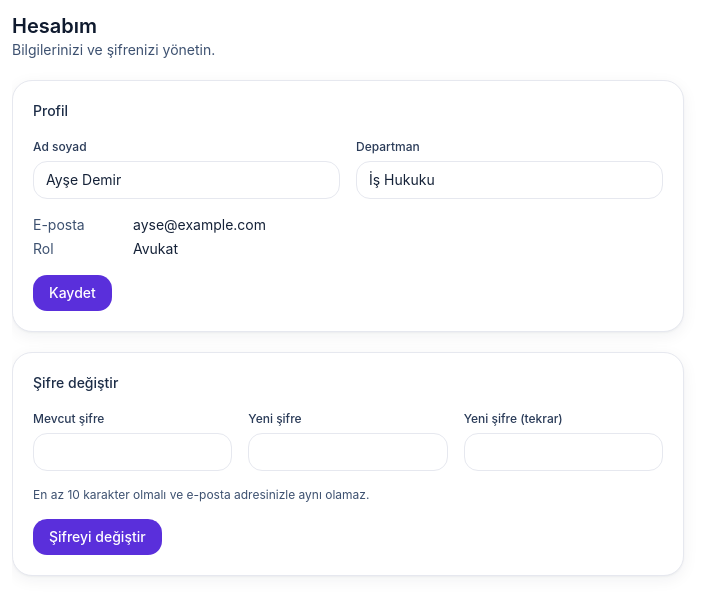
AccountView profile › shows the profile, saves the name and department and tells the shell
expect the heading "Hesabım" is shown: met, box [12,14,97,38]
expect the field labelled "Departman" holds "İş Hukuku": met, box [356,161,663,199]
Replace the text in the field labelled "Ad soyad" with "Ayşe Yılmaz" at (186, 180), box [33,161,340,199]
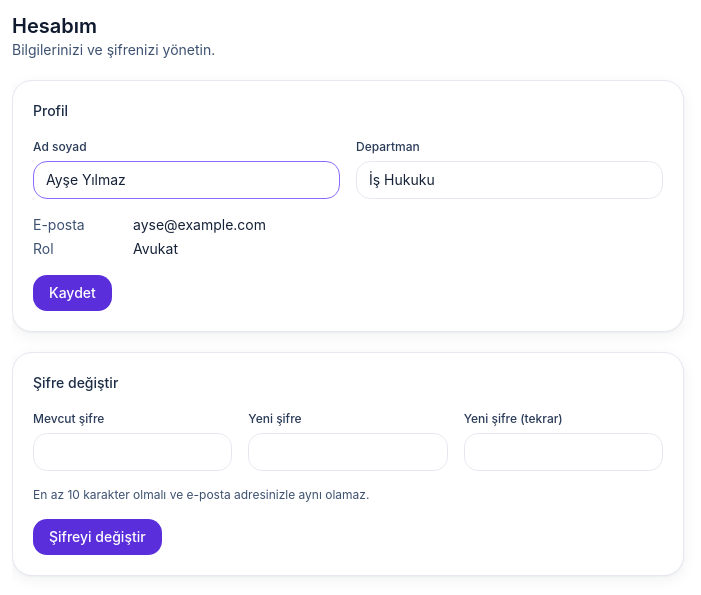
Clear the field labelled "Departman" at (510, 180), box [356,161,663,199]
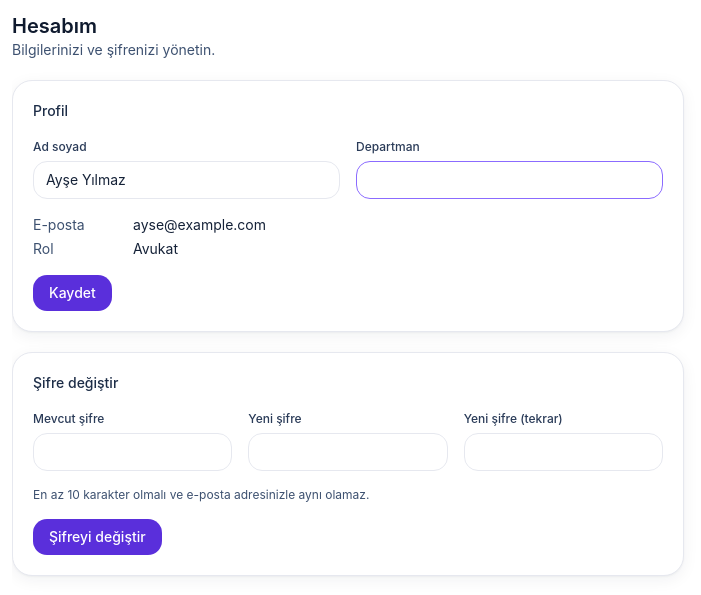
Click the button "Kaydet" at (72, 293), box [33,275,112,311]
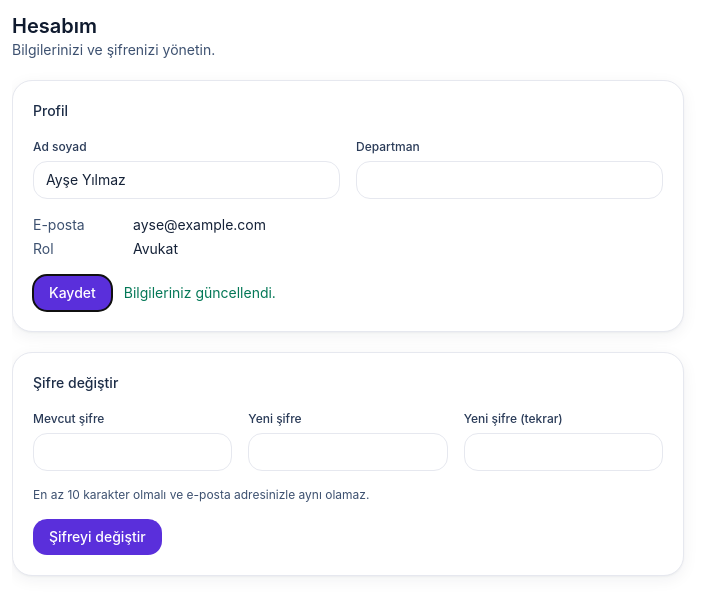
expect the message reads "Bilgileriniz güncellendi.": met, box [124,284,276,301]
